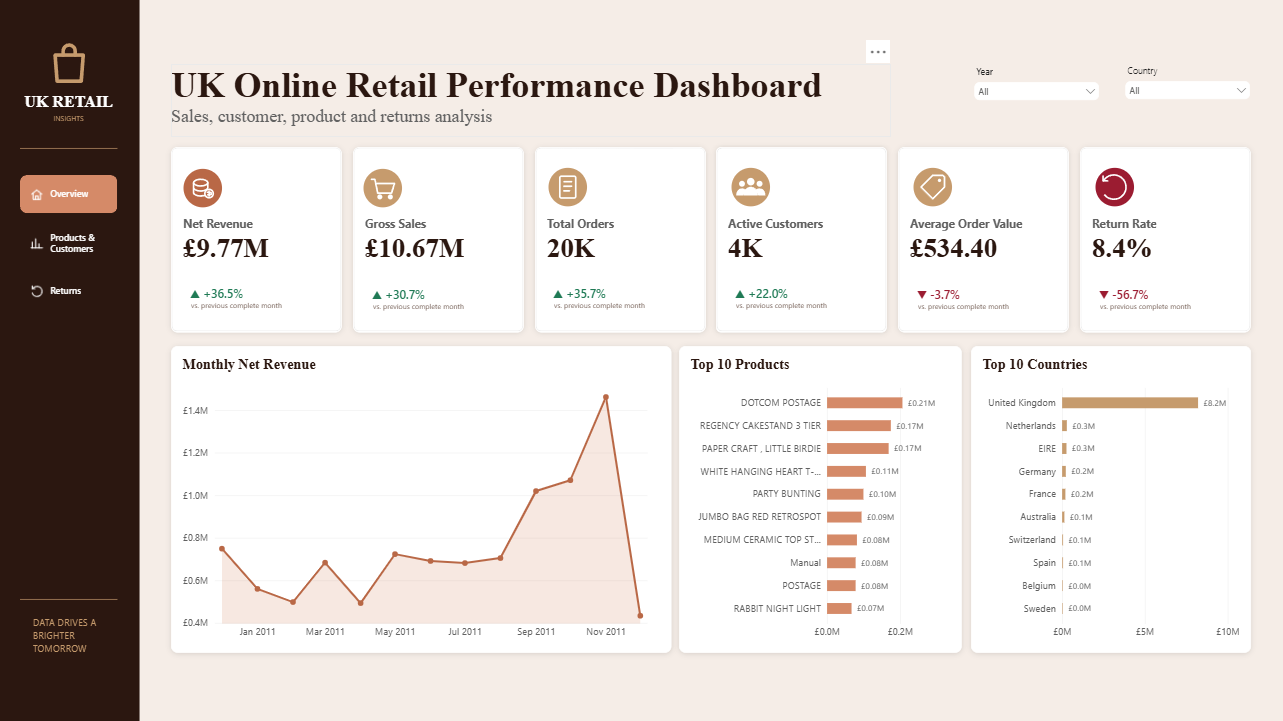

Layout of this report page (visuals, bound fields, positions):
{"tool":"powerbi","page":{"name":"Overview Dashboard","canvas":[1920,1080],"ordinal":0},"visuals":[{"type":"shape","box":[0,0,209.8,1079.3],"z":0},{"type":"cardVisual","fields":{"Data":["FactSales.Net Revenue Trend Label"]},"box":[268.2,402,182.9,70],"z":0,"group":"g5"},{"type":"cardVisual","fields":{"Data":["FactSales.Total Orders Trend Label"]},"box":[811,402,182.9,70],"z":0,"group":"g6"},{"type":"cardVisual","fields":{"Data":["FactSales.Active Customers Trend Label"]},"box":[1082.4,402,182.9,70],"z":0,"group":"g7"},{"type":"cardVisual","fields":{"Data":["FactSales.Gross Sales Trend Label"]},"box":[539.6,403,182.9,70],"z":0,"group":"g4"},{"type":"cardVisual","fields":{"Data":["FactSales.AOV Trend Label"]},"box":[1353.7,403,182.9,70],"z":0,"group":"g8"},{"type":"cardVisual","fields":{"Data":["FactSales.Return Rate Trend Label"]},"box":[1625.1,404,182.9,70],"z":0,"group":"g9"},{"type":"cardVisual","fields":{"Data":["FactSales.Net Revenue"]},"box":[256.7,220,255.1,276.7],"z":1000,"group":"g1"},{"type":"textbox","box":[286.5,445.8,213,40],"z":1000,"group":"g5"},{"type":"textbox","box":[829.3,445.8,213,40],"z":1000,"group":"g6"},{"type":"textbox","box":[1100.7,445.8,213,40],"z":1000,"group":"g7"},{"type":"textbox","box":[557.9,446.8,213,40],"z":1000,"group":"g4"},{"type":"textbox","box":[1372,446.8,213,40],"z":1000,"group":"g8"},{"type":"textbox","box":[1643.4,447.8,213,40],"z":1000,"group":"g9"},{"type":"textbox","title":"UK Online Retail Performance Dashboard","box":[256,96,1076,108],"z":3000},{"type":"cardVisual","fields":{"Data":["FactSales.Gross Sales"]},"box":[528,220,255.1,276.7],"z":3000,"group":"g1"},{"type":"textbox","box":[21.5,139.2,165.8,50.7],"z":4000},{"type":"lineChart","title":"Monthly Net Revenue","fields":{"Category":["DateTable.YearMonth"],"Y":["FactSales.Net Revenue"]},"box":[256.7,516.7,747.5,458.3],"z":5000,"group":"g2"},{"type":"shape","box":[31.1,163.3,145.6,117.8],"z":6000},{"type":"cardVisual","fields":{"Data":["FactSales.Total Orders"]},"box":[799.3,220,255.1,276.7],"z":6000,"group":"g1"},{"type":"image","box":[56,58,96,72],"z":7000},{"type":"clusteredBarChart","title":"Top 10 Products","fields":{"Category":["FactSales.ProductName"],"Y":["FactSales.Gross Sales"]},"box":[1015.2,516.7,421.6,458.3],"z":7000,"group":"g2"},{"type":"slicer","fields":{"Values":["FactSales.Country"]},"box":[1676,96.7,196,72],"z":8000,"group":"g3"},{"type":"clusteredBarChart","title":"Top 10 Countries","fields":{"Category":["FactSales.Country"],"Y":["FactSales.Net Revenue"]},"box":[1450.2,516.7,418.2,458.3],"z":8000,"group":"g2"},{"type":"shape","box":[32,836,145.6,117.8],"z":8000},{"type":"cardVisual","fields":{"Data":["FactSales.Active Customers"]},"box":[1070.6,220,255.1,276.7],"z":9000,"group":"g1"},{"type":"textbox","title":"DATA DRIVES A BRIGHTER TOMORROW","box":[50,920,108,66],"z":9000},{"type":"slicer","fields":{"Values":["DateTable.Year"]},"box":[1450,98.7,196,76],"z":10000,"group":"g3"},{"type":"group","id":"g1","title":"Group 3","box":[256.7,220,1611.7,276.7],"z":10000},{"type":"cardVisual","fields":{"Data":["FactSales.Average Order Value"]},"box":[1342,220,255.1,276.7],"z":11000,"group":"g1"},{"type":"group","id":"g2","title":"Group 4","box":[256.7,516.7,1611.7,458.3],"z":11000},{"type":"group","id":"g3","title":"Group 5","box":[1450,96.7,423.3,78.3],"z":12000},{"type":"cardVisual","fields":{"Data":["FactSales.Return Rate"]},"box":[1613.3,220,255.1,276.7],"z":13000,"group":"g1"},{"type":"actionButton","box":[31.5,261.5,145.4,57.2],"z":17000},{"type":"actionButton","box":[31.5,334.1,145.4,59],"z":18000},{"type":"actionButton","box":[31.5,406.7,145.4,57.2],"z":19000},{"type":"image","box":[273.7,251.8,62.7,60],"z":22000,"group":"g1"},{"type":"image","box":[542.4,252,62.7,60],"z":23000,"group":"g1"},{"type":"image","box":[818.6,250.6,62.7,60],"z":24000,"group":"g1"},{"type":"image","box":[1090.4,250.6,62.7,60],"z":25000,"group":"g1"},{"type":"image","box":[1363.4,250.6,62.7,60],"z":26000,"group":"g1"},{"type":"image","box":[1634,250.6,62.7,60],"z":27000,"group":"g1"},{"type":"group","id":"g4","title":"Group 2","box":[539.6,403,231.3,83.8],"z":28000,"group":"g1"},{"type":"group","id":"g5","title":"Group 2","box":[268.2,402,231.3,83.8],"z":29000,"group":"g1"},{"type":"group","id":"g6","title":"Group 2","box":[811,402,231.3,83.8],"z":30000,"group":"g1"},{"type":"group","id":"g7","title":"Group 2","box":[1082.4,402,231.3,83.8],"z":31000,"group":"g1"},{"type":"group","id":"g8","title":"Group 2","box":[1353.7,403,231.3,83.8],"z":32000,"group":"g1"},{"type":"group","id":"g9","title":"Group 2","box":[1625.1,404,231.3,83.8],"z":33000,"group":"g1"}]}

Visuals, with their boxes in screenshot pixels (x1, y1, x2, y2), scaled from the page's 1920x1080 canvas onto the 1283x721 screenshot:
shape: [x1=0, y1=0, x2=140, y2=720]
cardVisual - FactSales.Net Revenue Trend Label: [x1=179, y1=268, x2=301, y2=315]
cardVisual - FactSales.Total Orders Trend Label: [x1=542, y1=268, x2=664, y2=315]
cardVisual - FactSales.Active Customers Trend Label: [x1=723, y1=268, x2=846, y2=315]
cardVisual - FactSales.Gross Sales Trend Label: [x1=361, y1=269, x2=483, y2=316]
cardVisual - FactSales.AOV Trend Label: [x1=905, y1=269, x2=1027, y2=316]
cardVisual - FactSales.Return Rate Trend Label: [x1=1086, y1=270, x2=1208, y2=316]
cardVisual - FactSales.Net Revenue: [x1=172, y1=147, x2=342, y2=332]
textbox: [x1=191, y1=298, x2=334, y2=324]
textbox: [x1=554, y1=298, x2=696, y2=324]
textbox: [x1=736, y1=298, x2=878, y2=324]
textbox: [x1=373, y1=298, x2=515, y2=325]
textbox: [x1=917, y1=298, x2=1059, y2=325]
textbox: [x1=1098, y1=299, x2=1241, y2=326]
"UK Online Retail Performance Dashboard" textbox: [x1=171, y1=64, x2=890, y2=136]
cardVisual - FactSales.Gross Sales: [x1=353, y1=147, x2=523, y2=332]
textbox: [x1=14, y1=93, x2=125, y2=127]
"Monthly Net Revenue" lineChart: [x1=172, y1=345, x2=671, y2=651]
shape: [x1=21, y1=109, x2=118, y2=188]
cardVisual - FactSales.Total Orders: [x1=534, y1=147, x2=705, y2=332]
image: [x1=37, y1=39, x2=102, y2=87]
"Top 10 Products" clusteredBarChart: [x1=678, y1=345, x2=960, y2=651]
slicer - FactSales.Country: [x1=1120, y1=65, x2=1251, y2=113]
"Top 10 Countries" clusteredBarChart: [x1=969, y1=345, x2=1249, y2=651]
shape: [x1=21, y1=558, x2=119, y2=637]
cardVisual - FactSales.Active Customers: [x1=715, y1=147, x2=886, y2=332]
"DATA DRIVES A BRIGHTER TOMORROW" textbox: [x1=33, y1=614, x2=106, y2=658]
slicer - DateTable.Year: [x1=969, y1=66, x2=1100, y2=117]
"Group 3" group: [x1=172, y1=147, x2=1249, y2=332]
cardVisual - FactSales.Average Order Value: [x1=897, y1=147, x2=1067, y2=332]
"Group 4" group: [x1=172, y1=345, x2=1249, y2=651]
"Group 5" group: [x1=969, y1=65, x2=1252, y2=117]
cardVisual - FactSales.Return Rate: [x1=1078, y1=147, x2=1249, y2=332]
actionButton: [x1=21, y1=175, x2=118, y2=213]
actionButton: [x1=21, y1=223, x2=118, y2=262]
actionButton: [x1=21, y1=272, x2=118, y2=310]
image: [x1=183, y1=168, x2=225, y2=208]
image: [x1=362, y1=168, x2=404, y2=208]
image: [x1=547, y1=167, x2=589, y2=207]
image: [x1=729, y1=167, x2=771, y2=207]
image: [x1=911, y1=167, x2=953, y2=207]
image: [x1=1092, y1=167, x2=1134, y2=207]
"Group 2" group: [x1=361, y1=269, x2=515, y2=325]
"Group 2" group: [x1=179, y1=268, x2=334, y2=324]
"Group 2" group: [x1=542, y1=268, x2=696, y2=324]
"Group 2" group: [x1=723, y1=268, x2=878, y2=324]
"Group 2" group: [x1=905, y1=269, x2=1059, y2=325]
"Group 2" group: [x1=1086, y1=270, x2=1241, y2=326]
